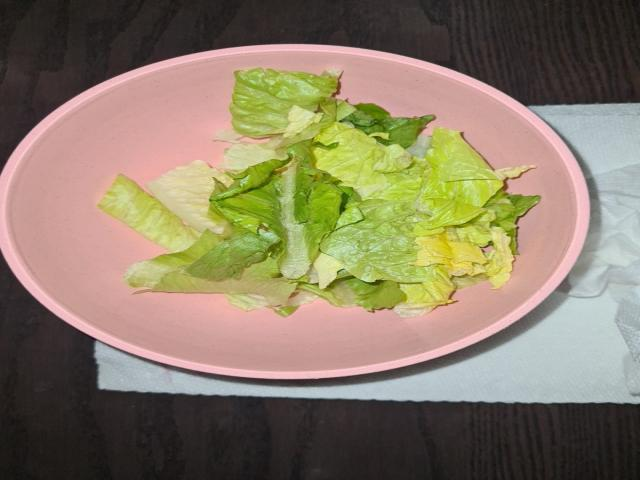kichen waste: (99, 68, 538, 320)
